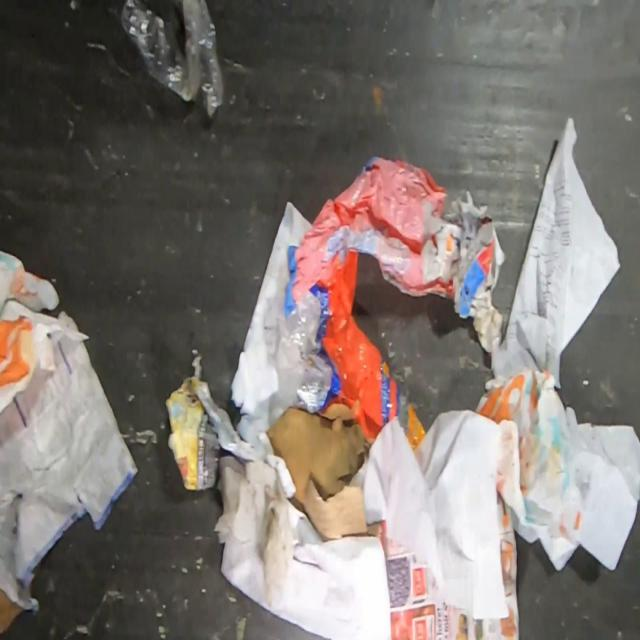cardboard: (268, 404, 382, 544), (0, 585, 26, 637)
soft_plastic: (279, 156, 455, 452), (116, 0, 226, 122)
